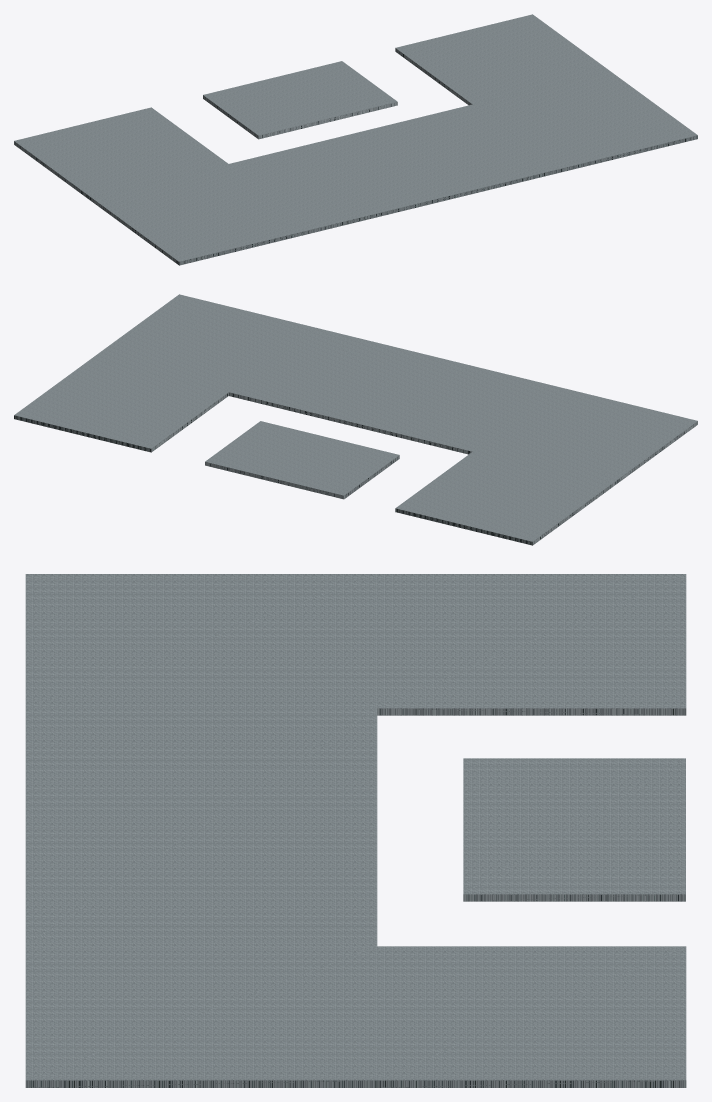
Rendered from BossFloor.fbx.
The picture shows the model from 3 angles, top to bottom: view 1: azimuth 30°, elevation 25°; view 2: azimuth 150°, elevation 25°; view 3: azimuth 270°, elevation 25°; orthographic projection. The views are drawn at different scales.
Visible parts, largest first — view 1: BossFloor.001; view 2: BossFloor.001; view 3: BossFloor.001.
Part boxes in pixels (x1,y1,x2,y2): BossFloor.001: (14,14,697,265); BossFloor.001: (14,294,697,545); BossFloor.001: (25,574,686,1087).
Bounding box in the file's own units: 287 × 2 × 158.
